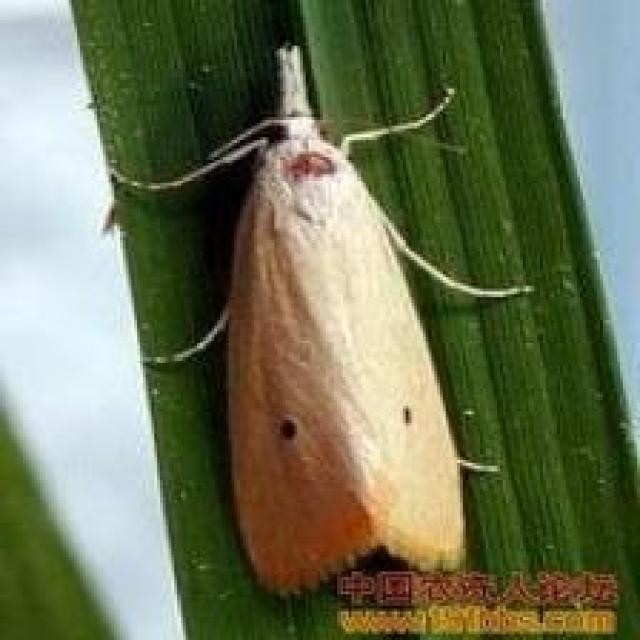yellow-stem-borer: (87, 31, 567, 586)
